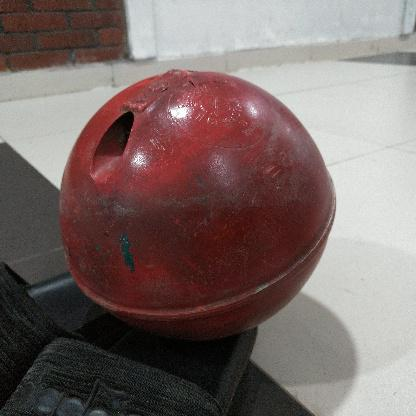red_buoy: (56, 67, 338, 341)
